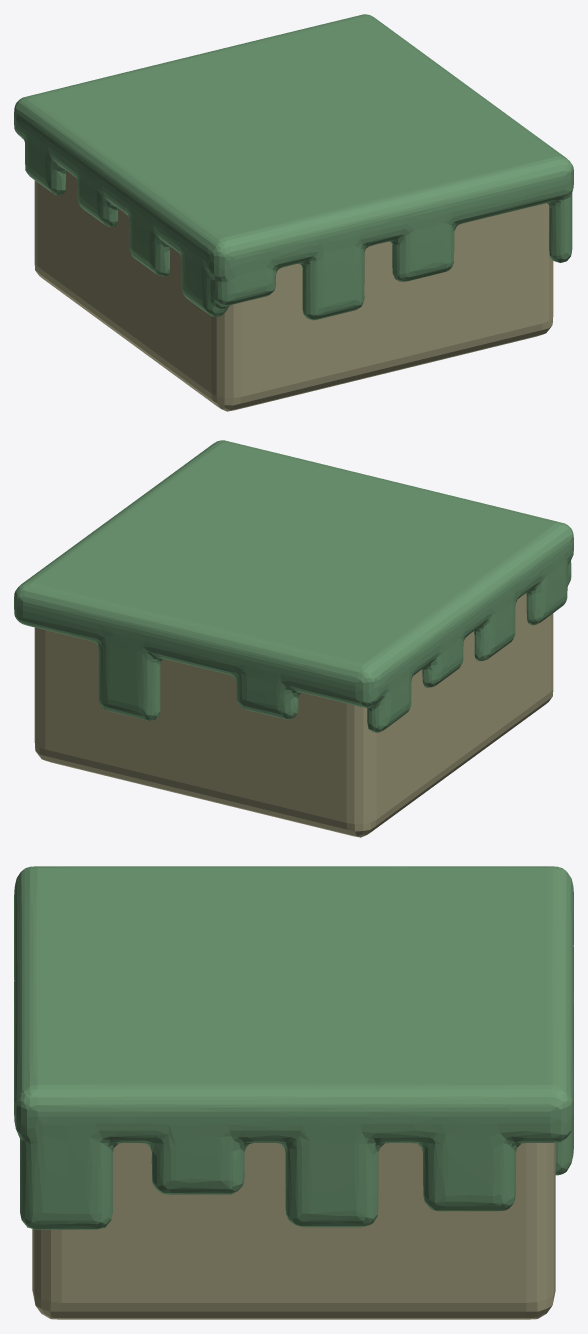
The model's file is Block_6_POGGERS.fbx.
3 views of the same model, one above another, from view 1: azimuth 30°, elevation 25°; view 2: azimuth 150°, elevation 25°; view 3: azimuth 270°, elevation 25° (orthographic). The views are drawn at different scales.
Parts seen in each view (by area): view 1: GRASS10:Mesh1; view 2: GRASS10:Mesh1; view 3: GRASS10:Mesh1.
Part boxes in pixels (x1,y1,x2,y2): GRASS10:Mesh1: (14, 14, 573, 411); GRASS10:Mesh1: (14, 440, 573, 837); GRASS10:Mesh1: (14, 866, 573, 1319).
Size of the model in its own units: 107 by 51.1 by 107.
